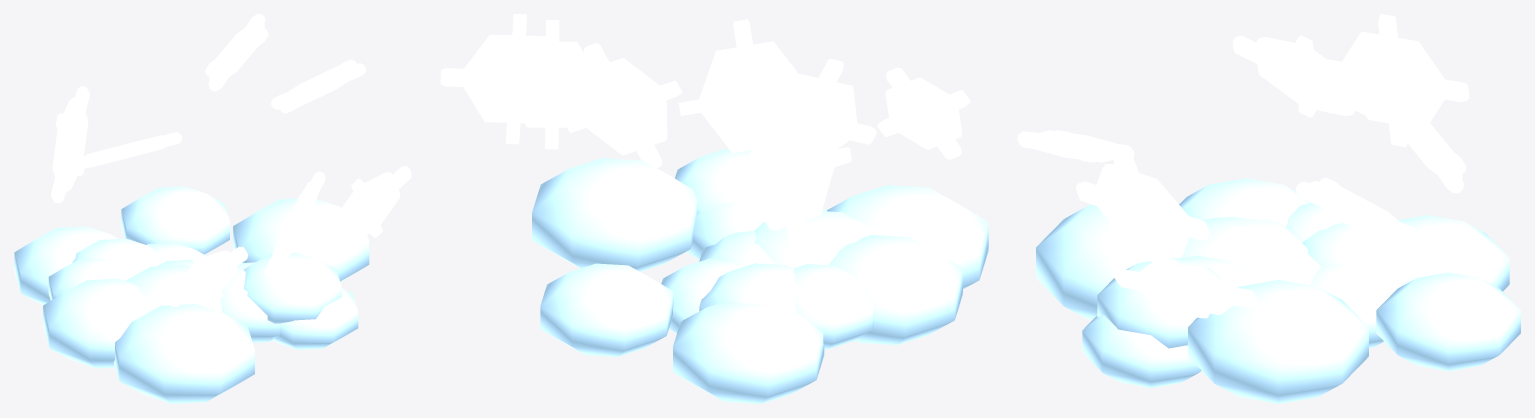
The model's file is vfx-mesh-library-snow-puff-a7accdaa__21864.glb.
3 renders of one model, left to right at view 1: azimuth 30°, elevation 25°; view 2: azimuth 150°, elevation 25°; view 3: azimuth 270°, elevation 25°, orthographic. The views are drawn at different scales.
Parts seen in each view (by area): view 1: snow-puff; view 2: snow-puff; view 3: snow-puff.
Part boxes in pixels (x1,y1,x2,y2): snow-puff: [14, 14, 411, 403]; snow-puff: [440, 14, 988, 403]; snow-puff: [1017, 14, 1520, 403].
Size of the model in its own units: 0.9292 by 0.6265 by 0.8702.
